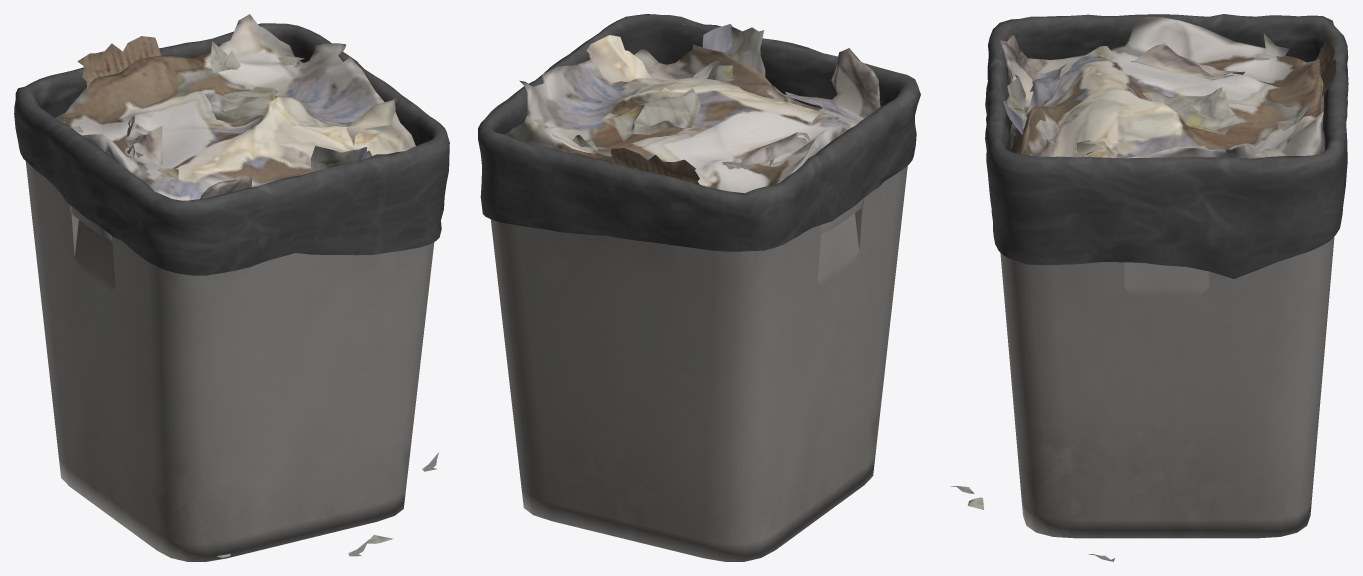
Rendered from trash_can1.glb.
The picture shows the model from 3 angles, left to right: view 1: azimuth 30°, elevation 25°; view 2: azimuth 150°, elevation 25°; view 3: azimuth 270°, elevation 25°; orthographic projection. The views are drawn at different scales.
Visible parts, largest first — view 1: Mesher001_21 - Default_0.001; view 2: Mesher001_21 - Default_0.001; view 3: Mesher001_21 - Default_0.001.
Part boxes in pixels (x1=…): Mesher001_21 - Default_0.001: x1=14, y1=14, x2=449, y2=561; Mesher001_21 - Default_0.001: x1=478, y1=14, x2=920, y2=561; Mesher001_21 - Default_0.001: x1=950, y1=14, x2=1348, y2=561.
Bounding box in the file's own units: 0.3767 × 0.4282 × 0.3755.
1 material, 1 textured.
